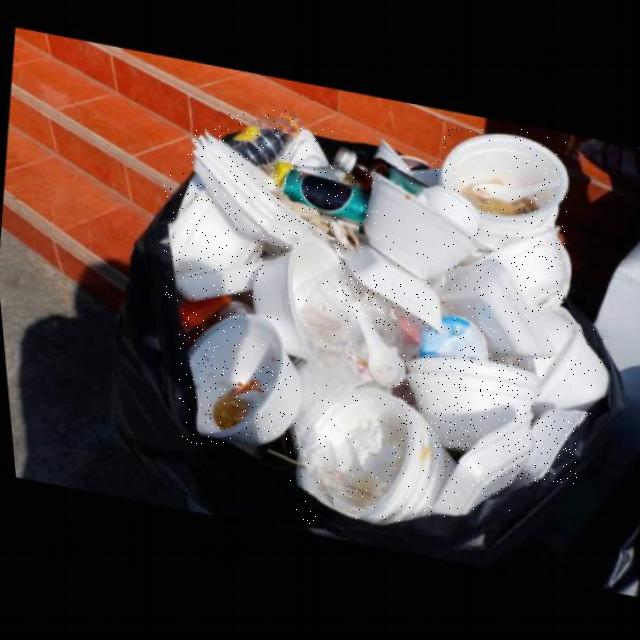metal: (279, 168, 368, 220)
plastic: (219, 110, 298, 173)
styrofoam: (287, 383, 447, 525), (189, 129, 333, 248), (180, 311, 294, 444), (434, 129, 567, 242), (164, 173, 268, 301), (360, 168, 477, 278), (400, 355, 532, 448), (430, 255, 546, 357), (246, 234, 336, 360), (422, 410, 526, 511), (337, 240, 441, 330), (522, 324, 603, 419), (479, 222, 565, 301), (504, 405, 578, 484)
